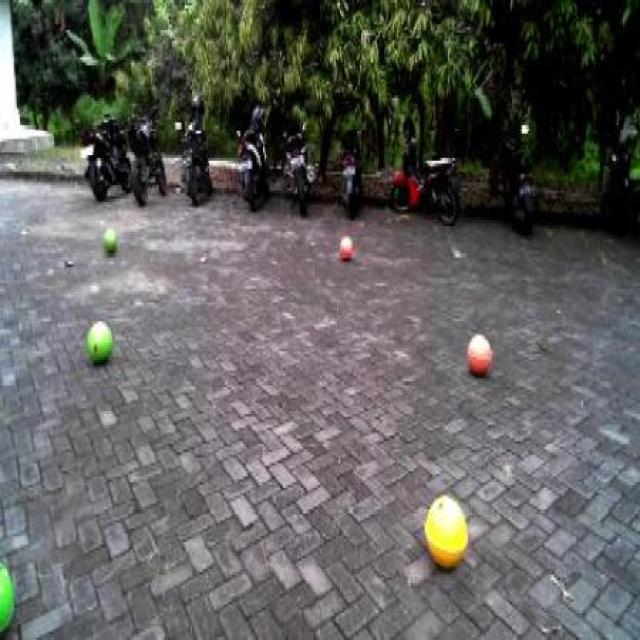buoy: (412, 472, 474, 573), (456, 317, 501, 394), (80, 298, 120, 380), (0, 545, 20, 634), (94, 210, 124, 266), (329, 219, 361, 269)
